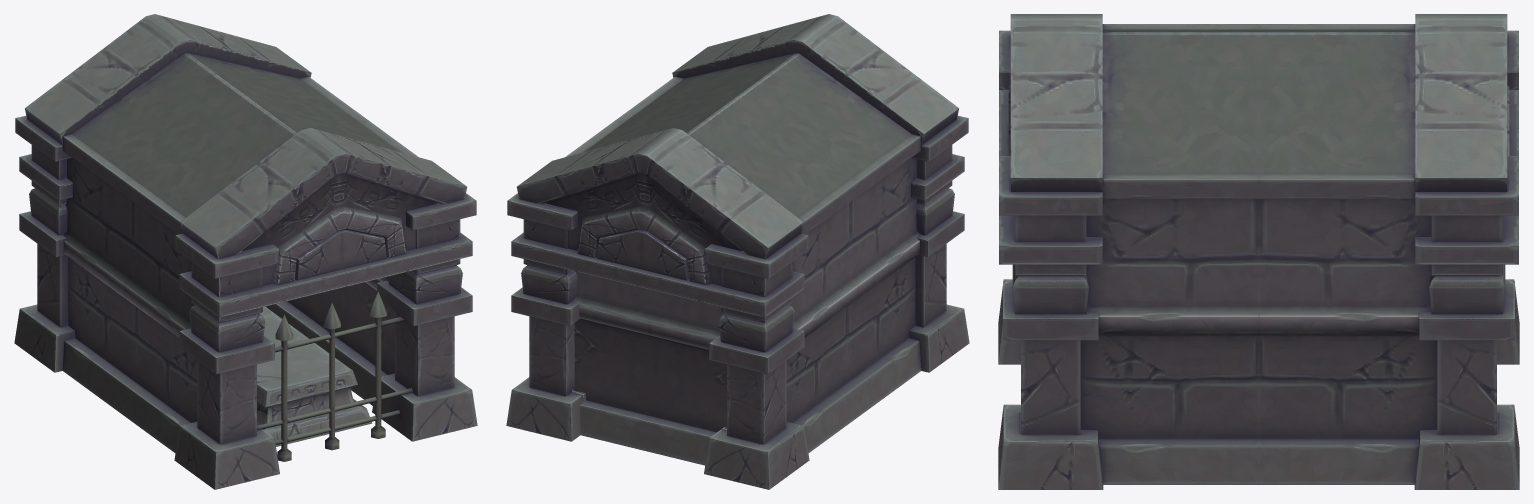
The model's file is cem_prop_museleum_01.fbx.
3 views of the same model, side by side, from view 1: azimuth 30°, elevation 25°; view 2: azimuth 150°, elevation 25°; view 3: azimuth 270°, elevation 25° (orthographic). The views are drawn at different scales.
Parts seen in each view (by area): view 1: cem_prop_museleum_01; view 2: cem_prop_museleum_01; view 3: cem_prop_museleum_01.
Boxes of the visible parts, x1,y1,x2,y2 form: cem_prop_museleum_01: (14, 14, 477, 489); cem_prop_museleum_01: (506, 14, 969, 489); cem_prop_museleum_01: (998, 14, 1519, 489).
Bounding box in the file's own units: 242 × 264 × 320.
